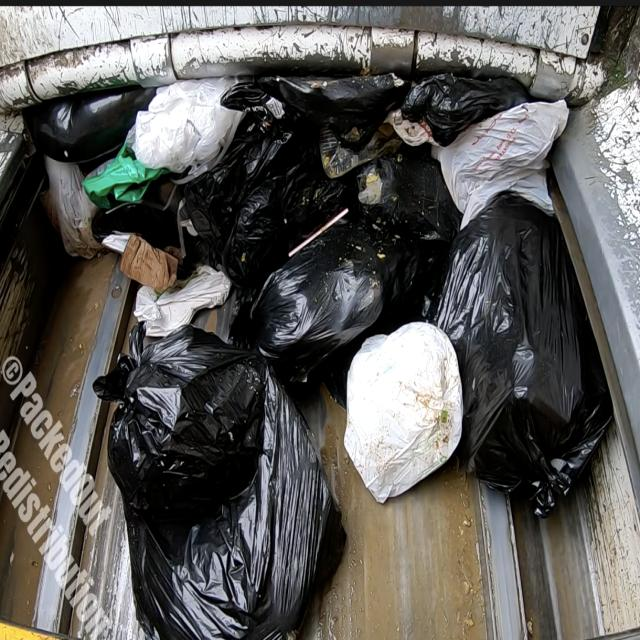bag: (81, 344, 351, 640), (445, 194, 608, 518), (202, 115, 442, 333), (338, 316, 473, 508)
paper: (70, 158, 188, 303)
